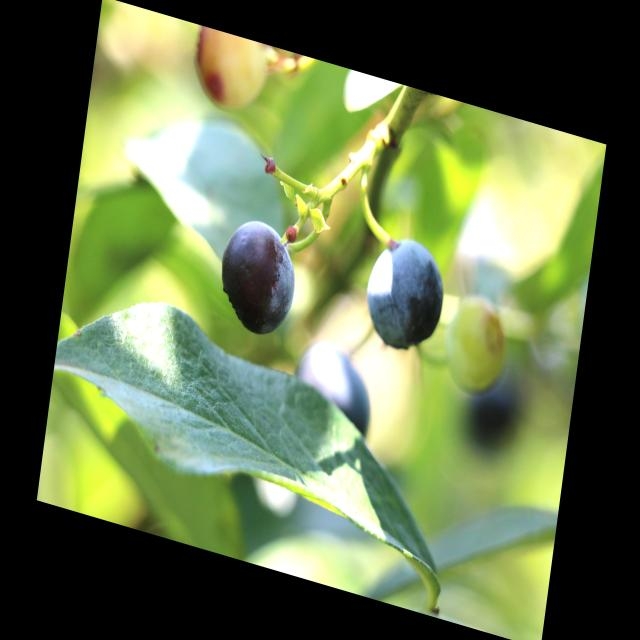blueberry: (210, 207, 304, 346), (358, 226, 452, 365), (285, 330, 382, 459), (453, 345, 537, 480)
blueberry-unripe: (186, 24, 278, 120)
